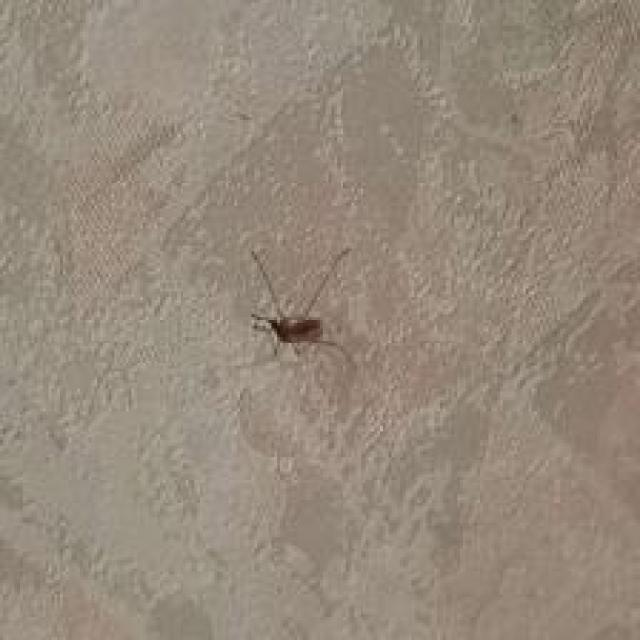Culex: (247, 244, 353, 364)
